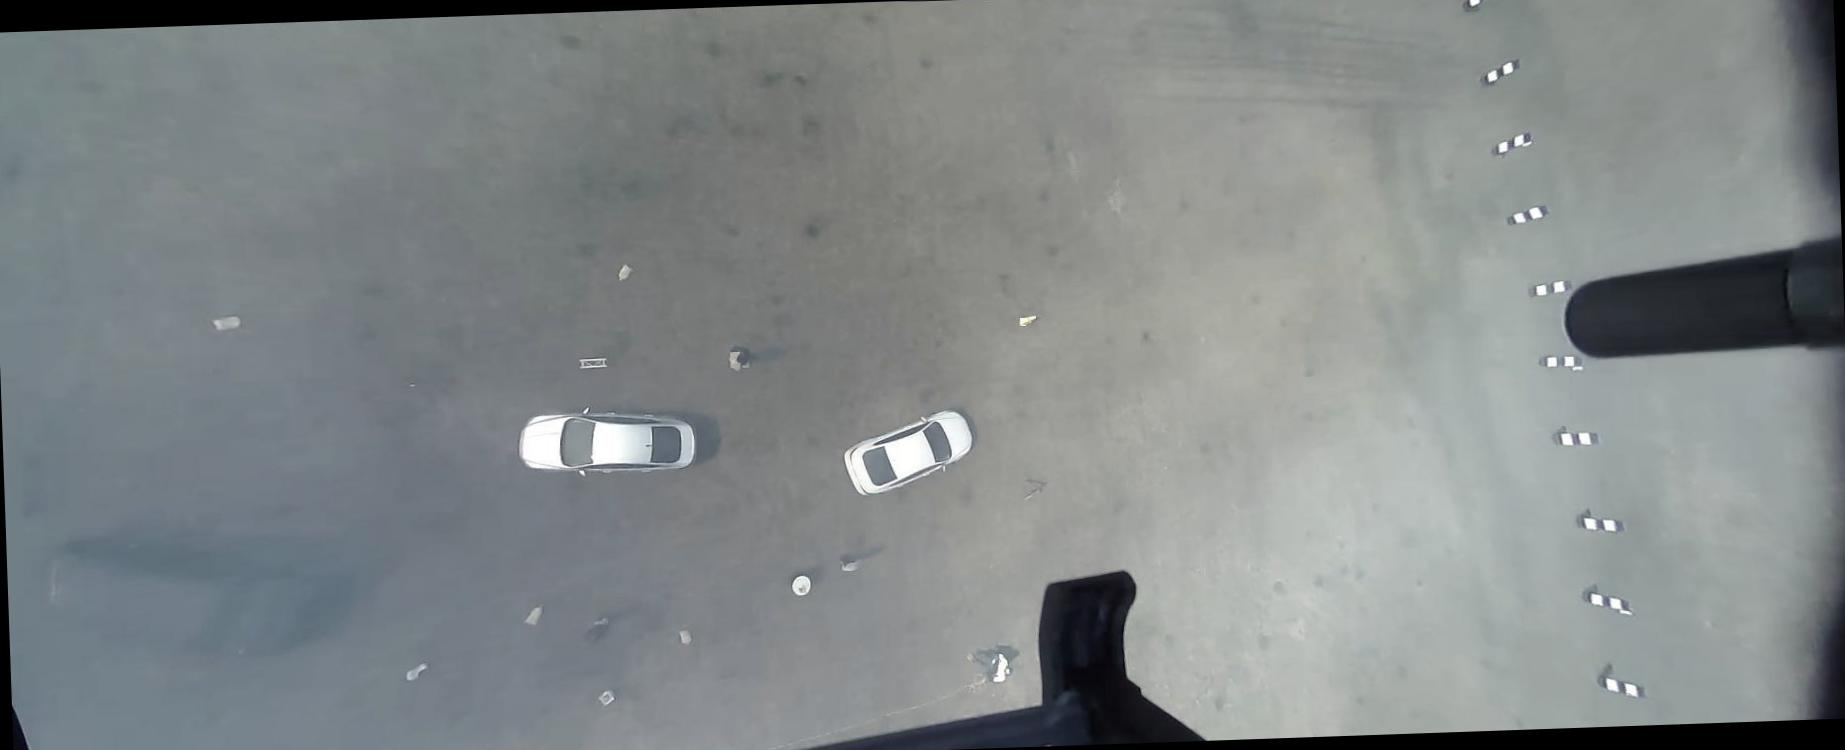vehicle: (45, 531, 324, 666), (514, 402, 698, 479), (838, 406, 978, 497)
